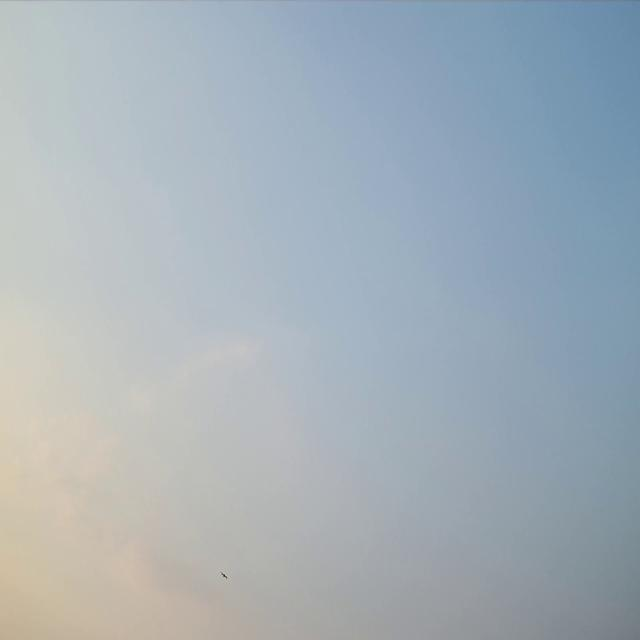UAV: (220, 570, 228, 580)
